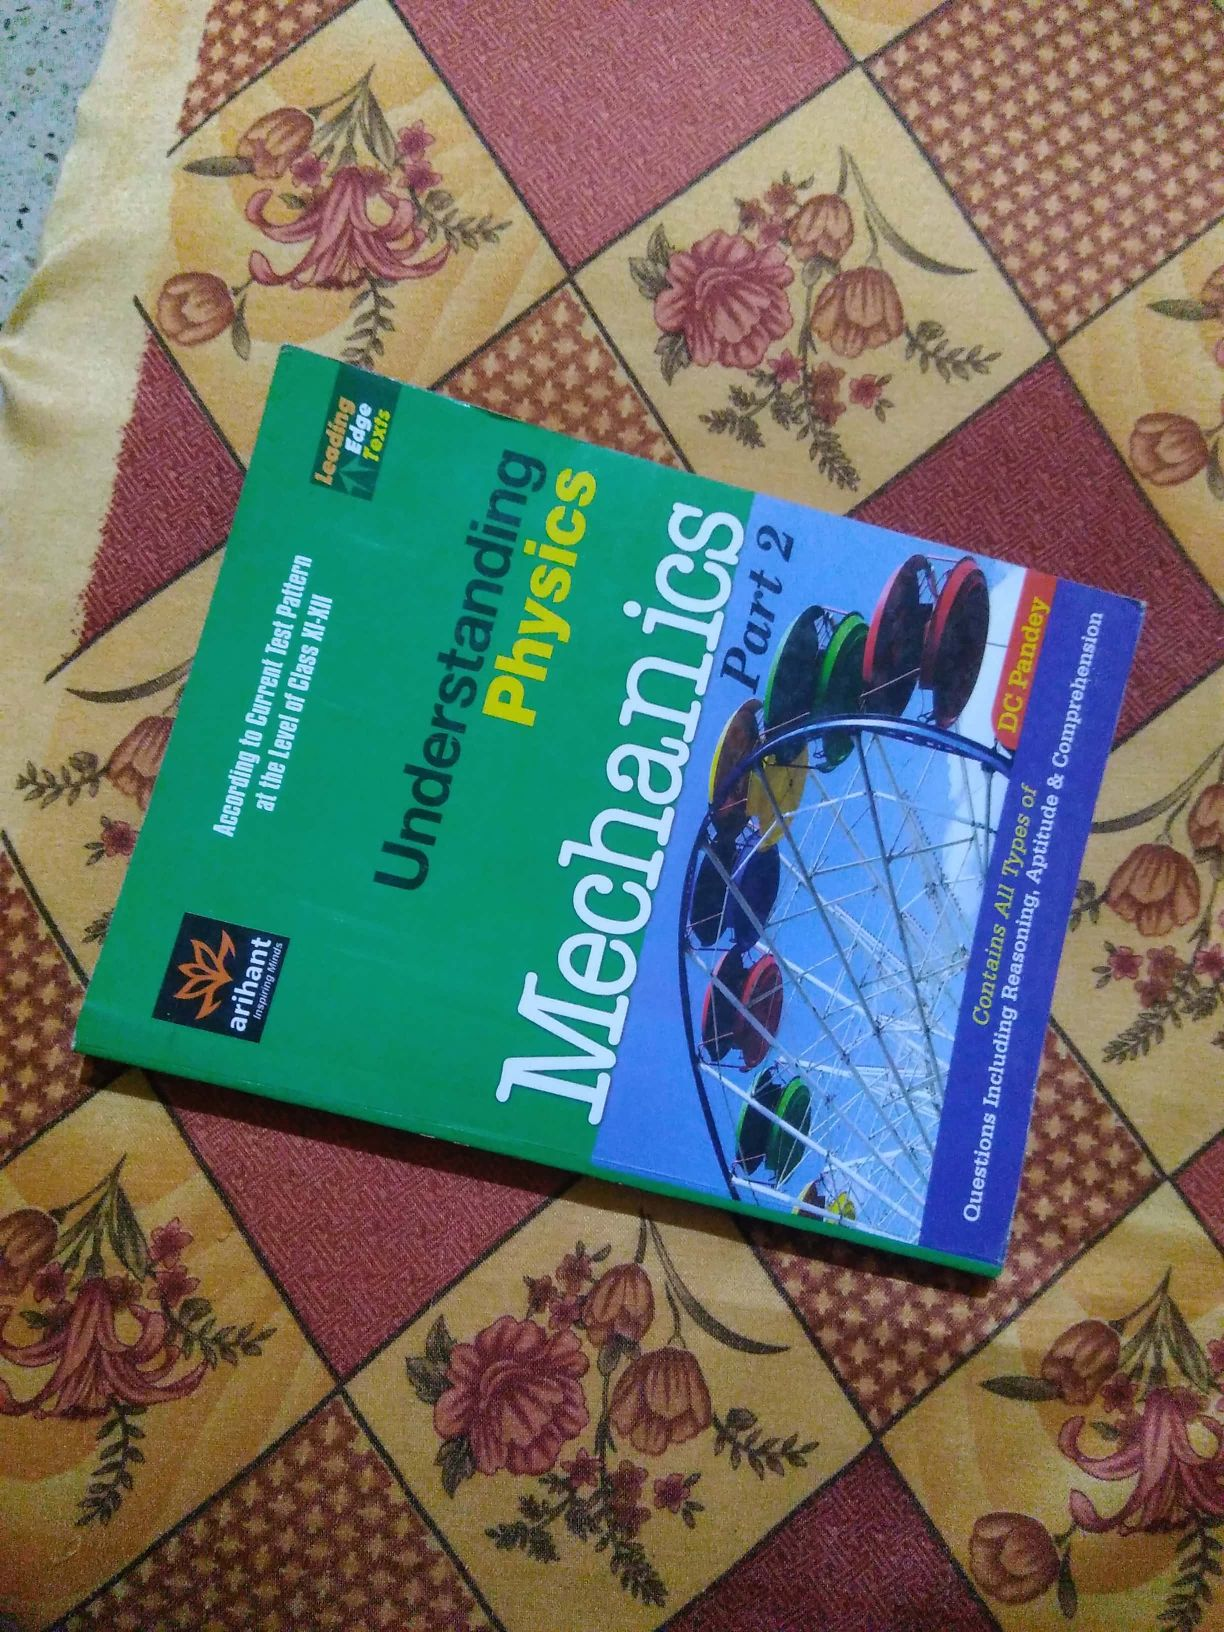mechanics: (103, 335, 1085, 1304)
